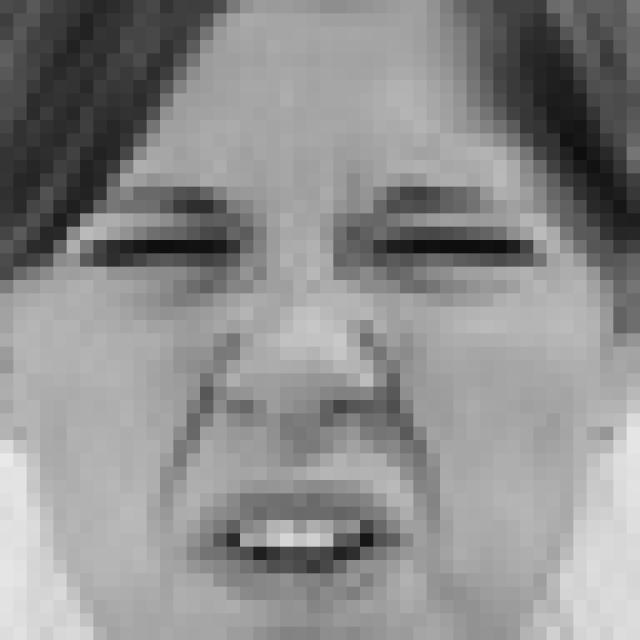disgust: (61, 174, 550, 612)
